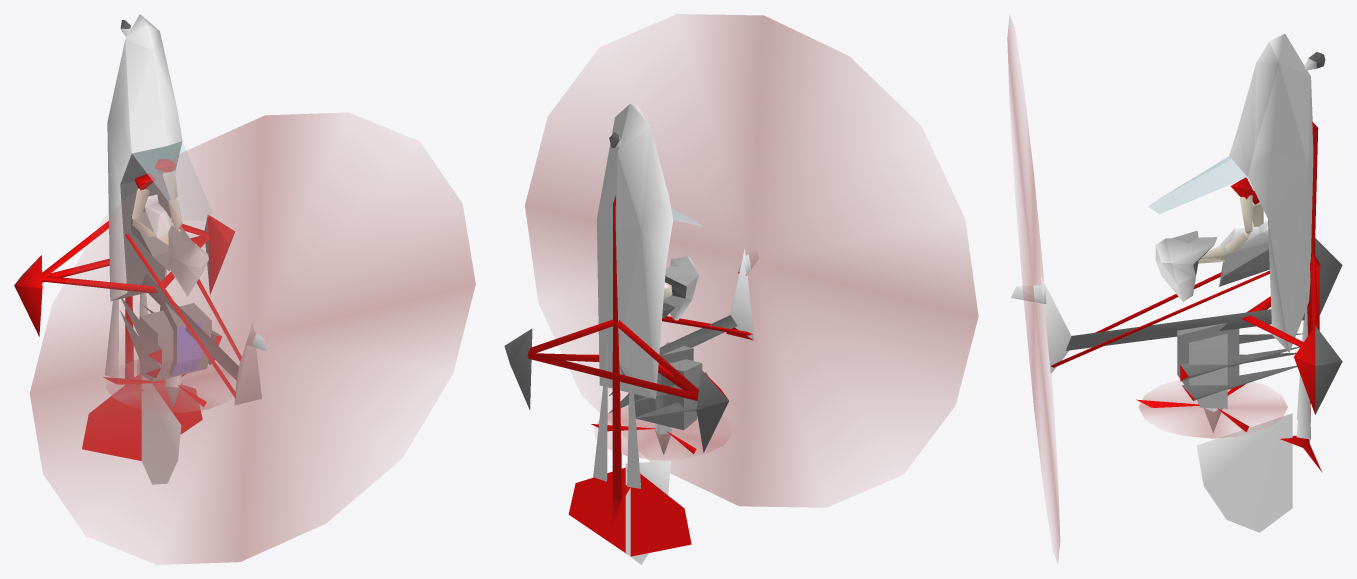
Rendered from gyro-b.glb.
3 views of the same model, side by side, from view 1: azimuth 30°, elevation 25°; view 2: azimuth 150°, elevation 25°; view 3: azimuth 270°, elevation 25° (orthographic). The views are drawn at different scales.
Parts seen in each view (by area): view 1: gyro-b; view 2: gyro-b; view 3: gyro-b.
Boxes of the visible parts, x1,y1,x2,y2 form: gyro-b: (14,14,475,564); gyro-b: (504,14,978,564); gyro-b: (1007,15,1342,562).
Size of the model in its own units: 387 by 391 by 233.
Materials: 16 (16 with a texture image).
